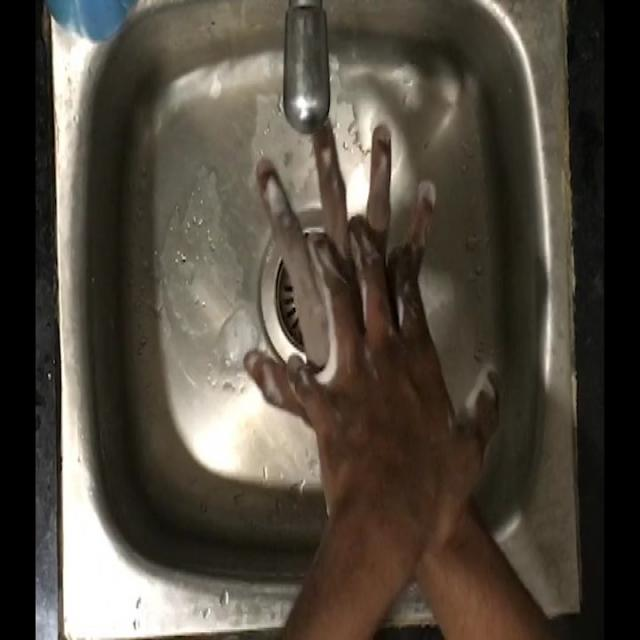step_2: (236, 114, 462, 458)
